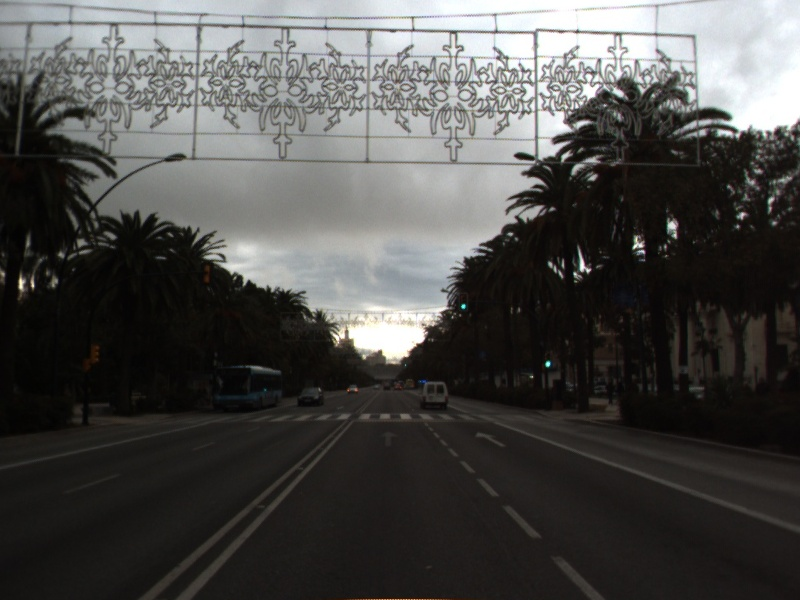STRAIGHT: (473, 429, 509, 449), (377, 429, 401, 449)
